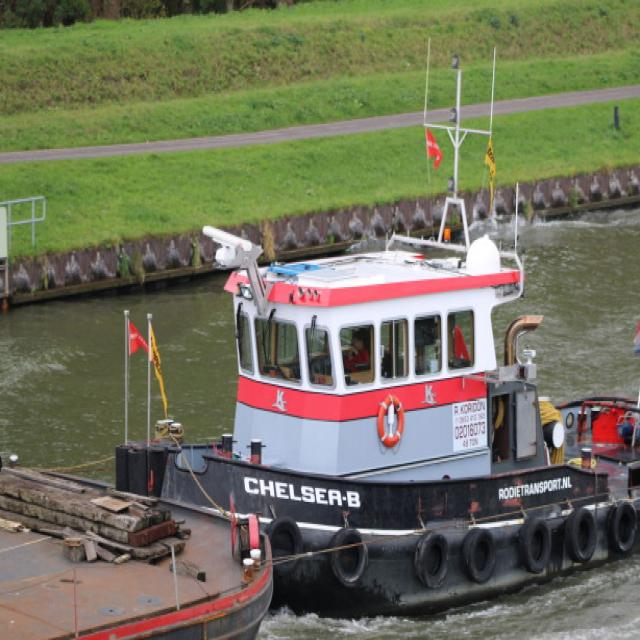tugboat: (112, 194, 640, 631)
